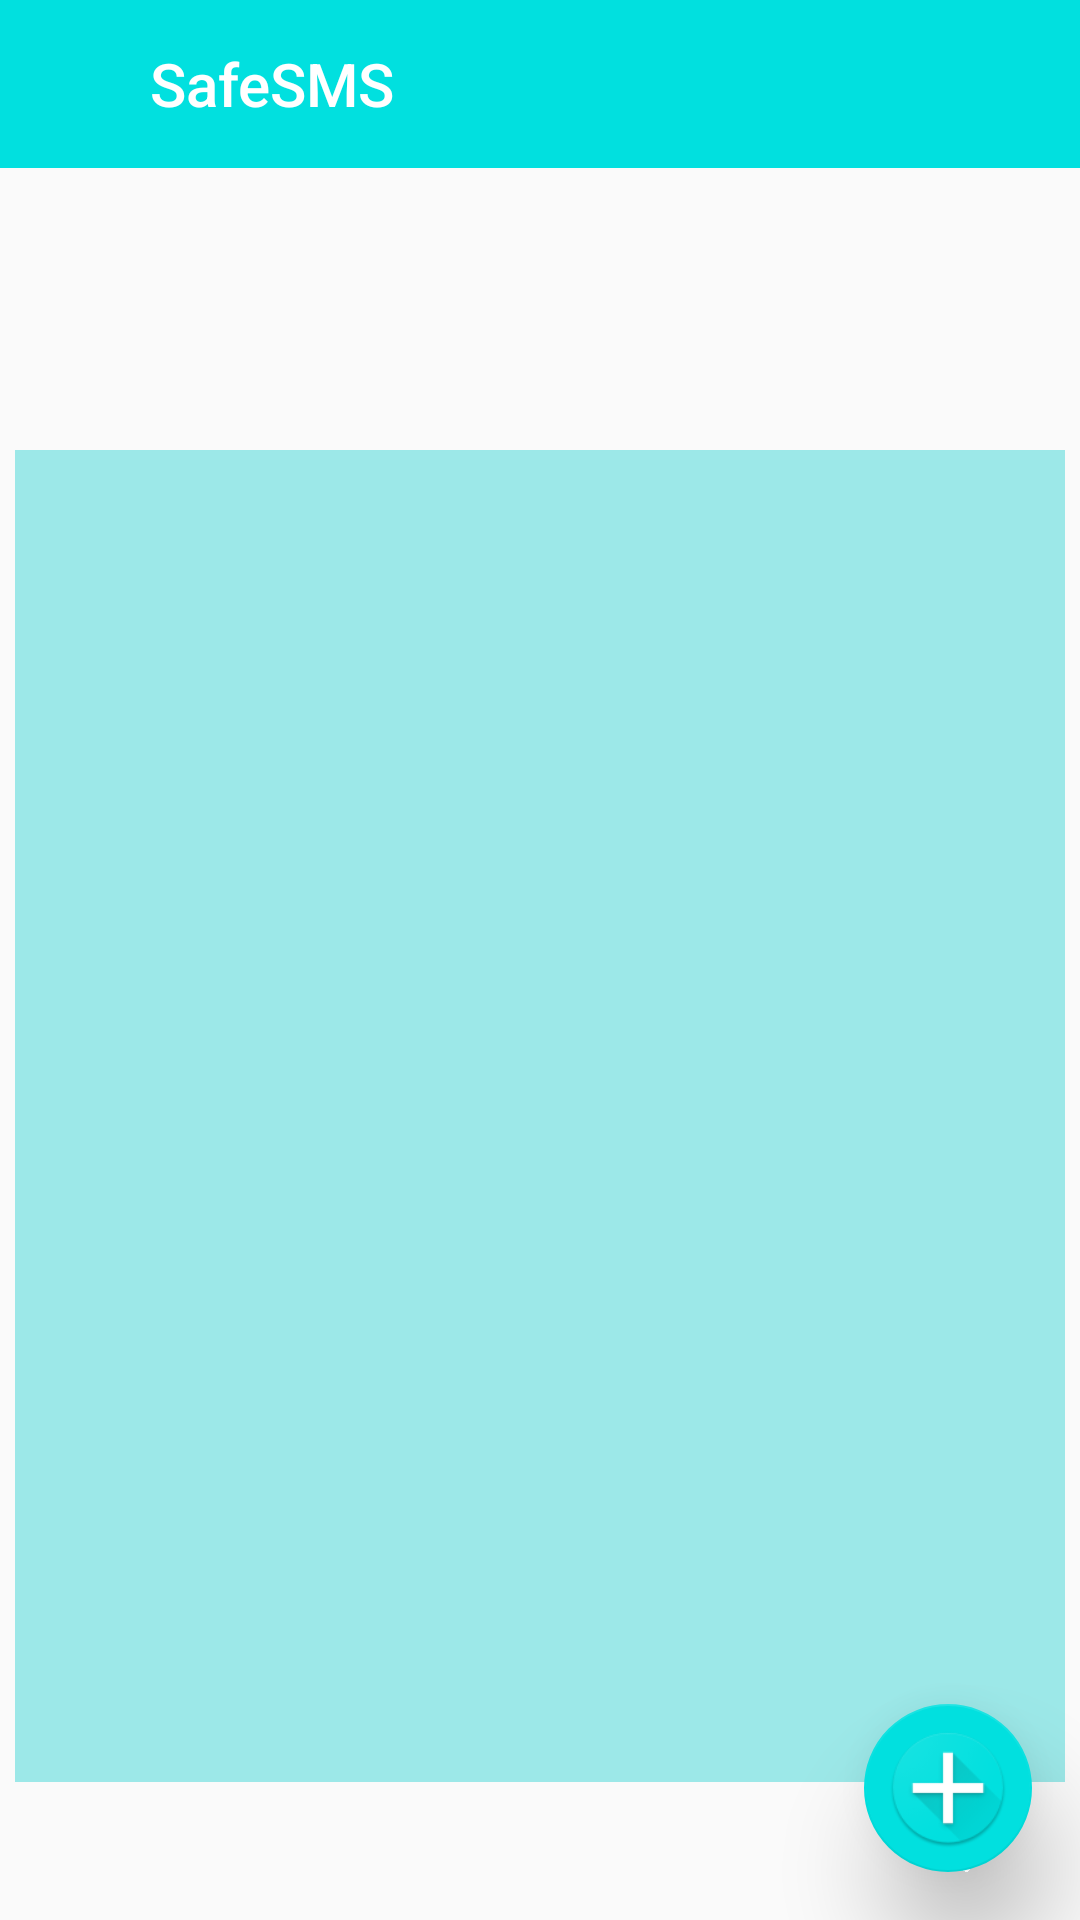

Where to tap for icons on this 1080w x 1920h app screen, as (x,y):
add message: (948,1788)
